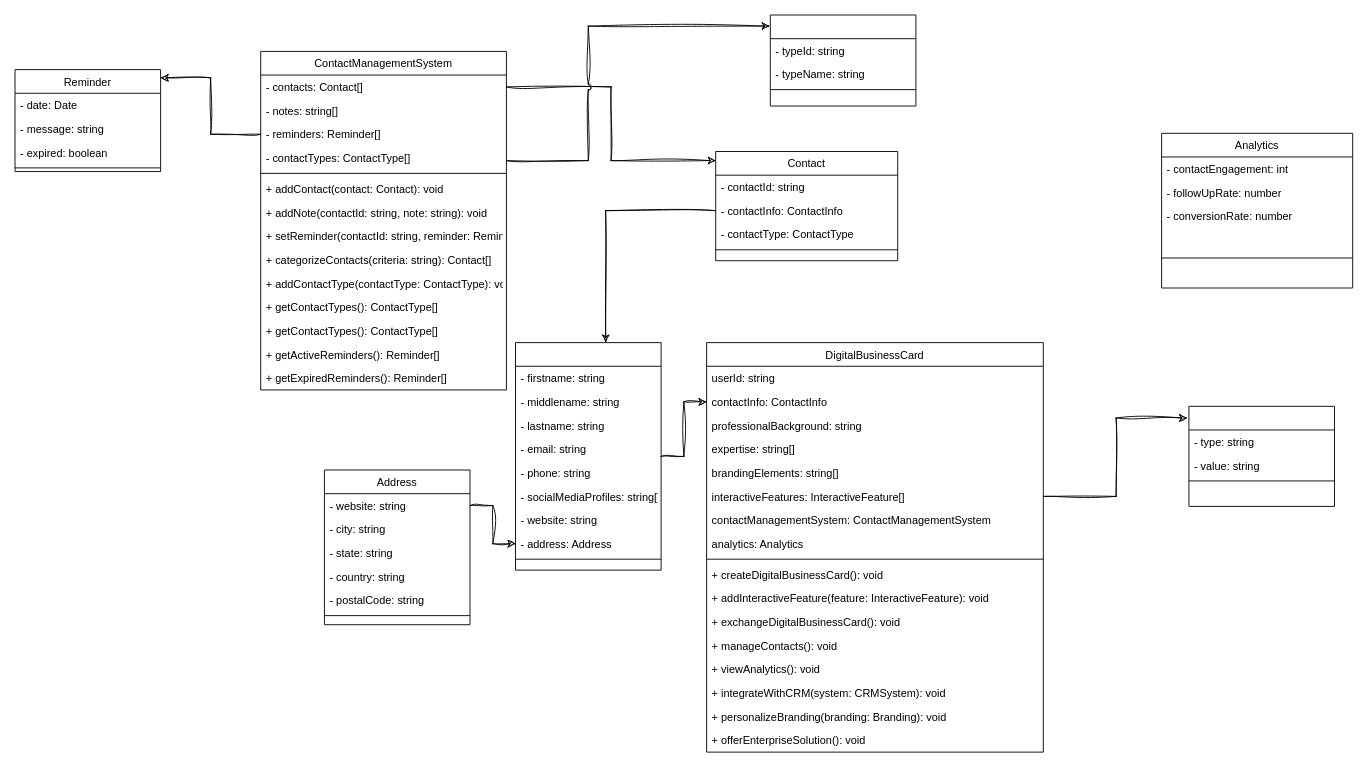
This 1368x767 diagram has some shape labels left out. Here are the shapes that lost their labels. From the top down, the box of each, then its label:
(769, 14, 916, 106): ContactType
(515, 342, 661, 570): ContactInfo
(1188, 405, 1335, 506): InteractiveFeature
